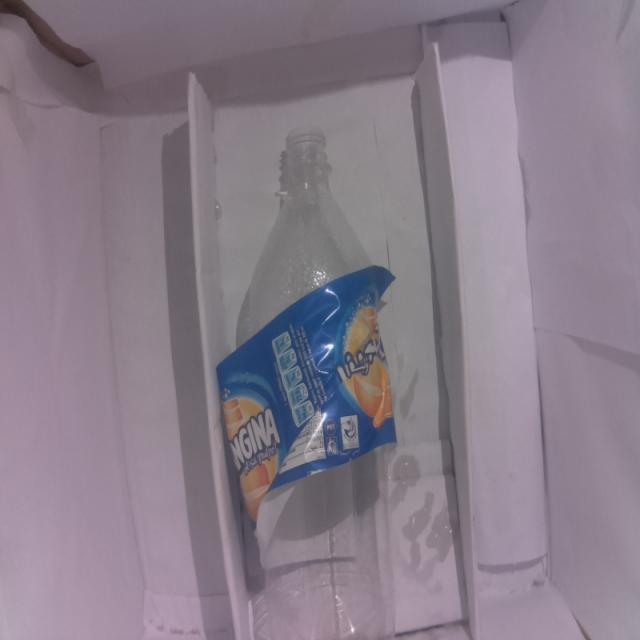plastic_bottle: (236, 126, 387, 640)
